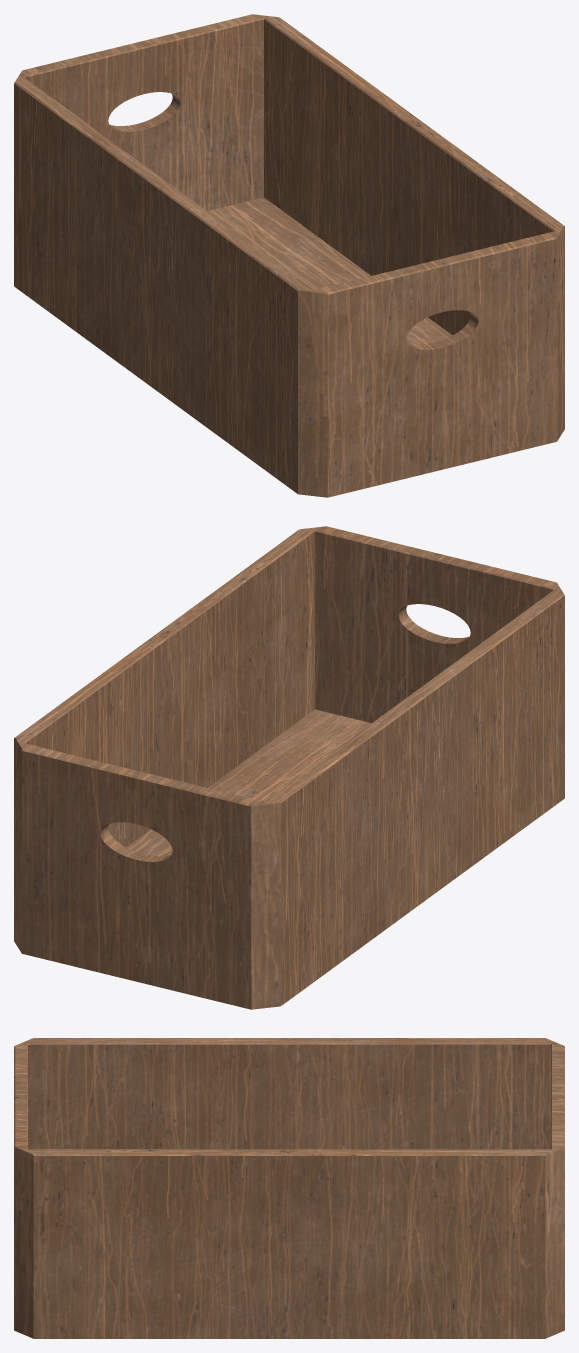
Rendered from Elec_tool box.fbx.
3 views of the same model, one above another, from view 1: azimuth 30°, elevation 25°; view 2: azimuth 150°, elevation 25°; view 3: azimuth 270°, elevation 25° (orthographic). The views are drawn at different scales.
Parts seen in each view (by area): view 1: Cube; view 2: Cube; view 3: Cube.
Boxes of the visible parts, <box> form: Cube: <box>14,14,564,497</box>; Cube: <box>14,526,564,1009</box>; Cube: <box>14,1038,564,1338</box>.
Size of the model in its own units: 200 by 146 by 397.
Materials: 1 (1 with a texture image).
